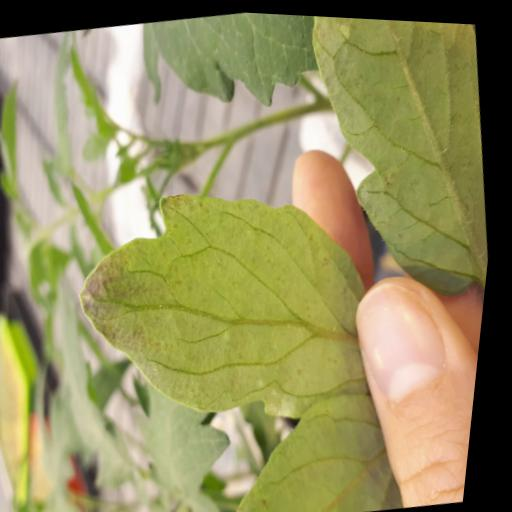Leaf Mold: (47, 144, 425, 460)
